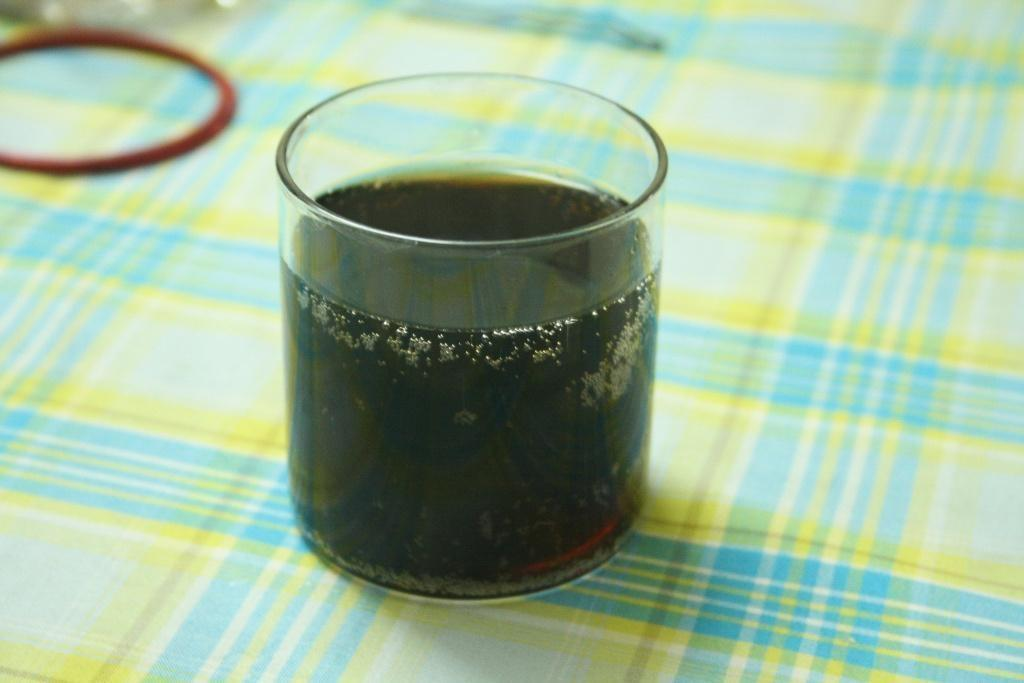glass-normal: (268, 70, 677, 601)
